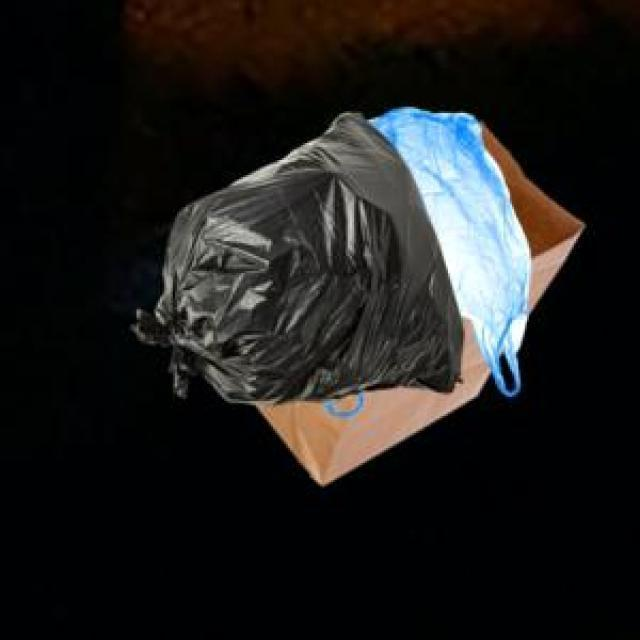miscellaneous trash: (128, 109, 459, 401)
paper: (254, 120, 580, 480)
